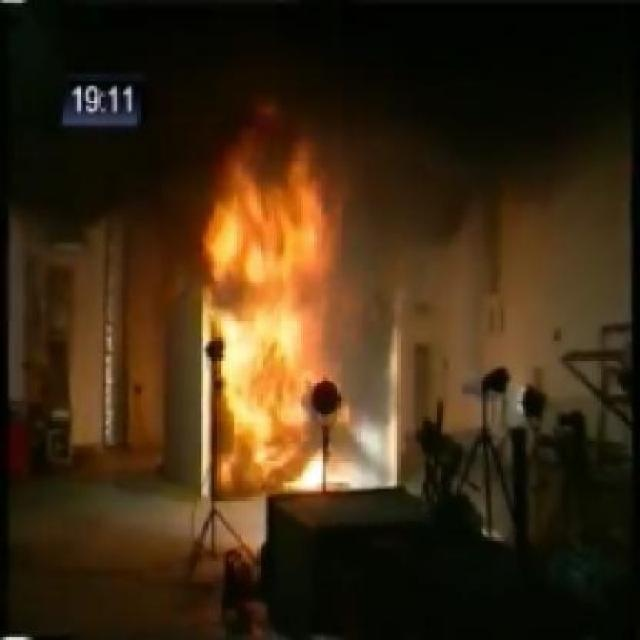fire: (200, 141, 364, 479)
smoke: (0, 1, 640, 192)
